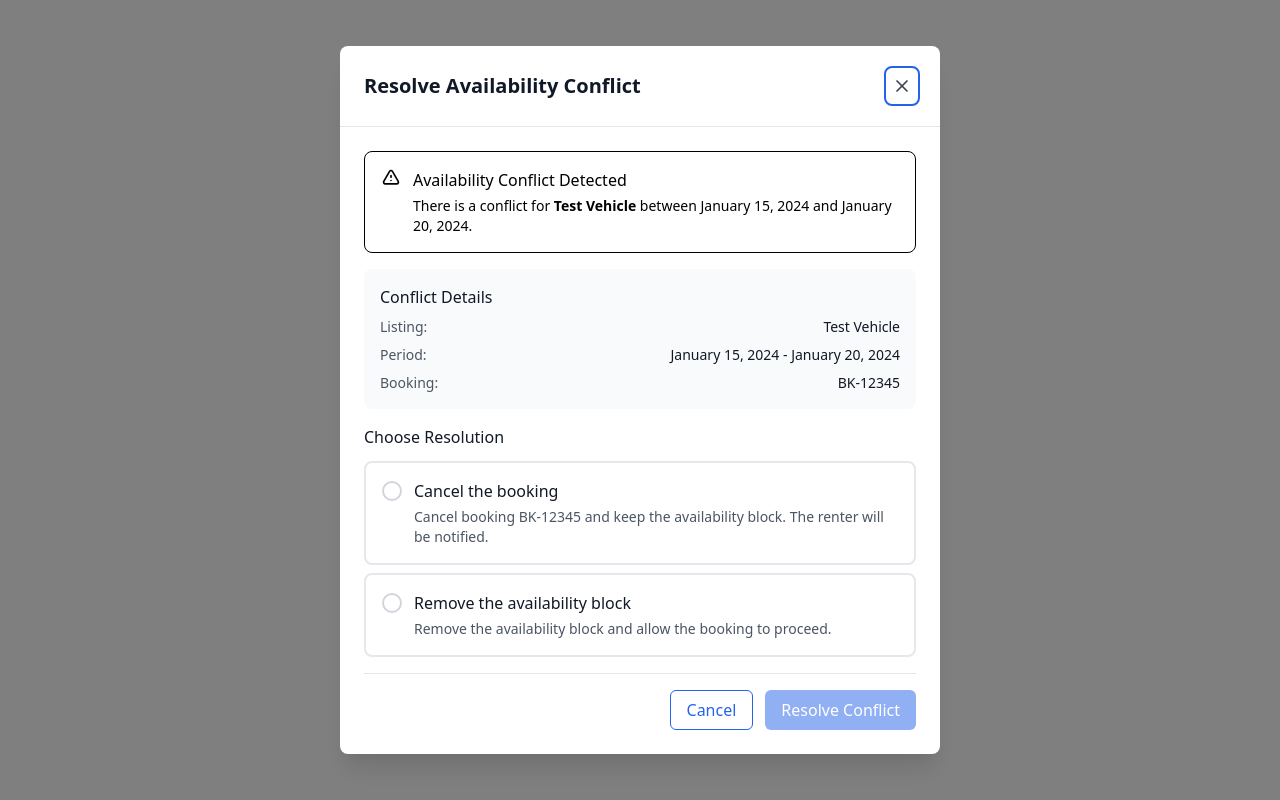
Test case: ConflictResolutionModal › displays error message when resolution fails
Note: Select and resolve
Click the button "Remove the availability block" at [522, 603], box [364, 573, 916, 657]
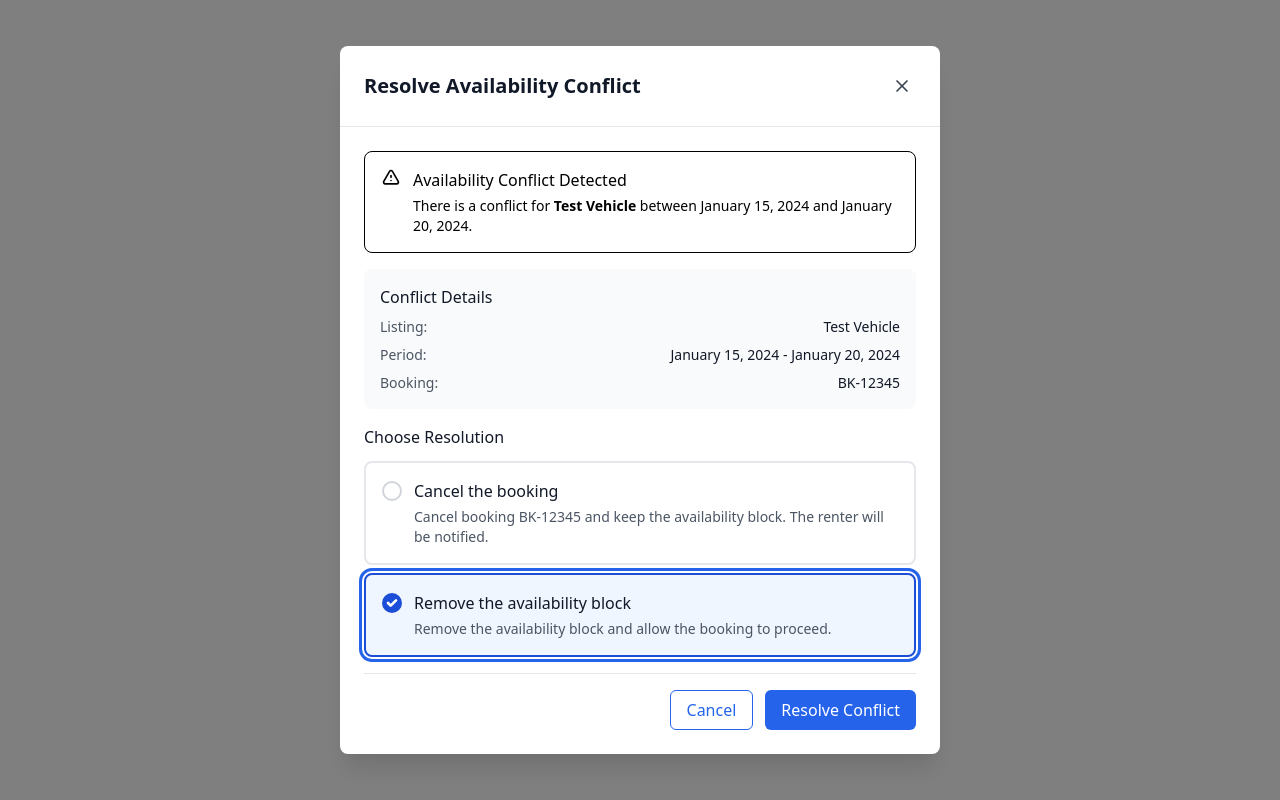
Click the button "Resolve Conflict" at [841, 710], box [765, 690, 916, 730]
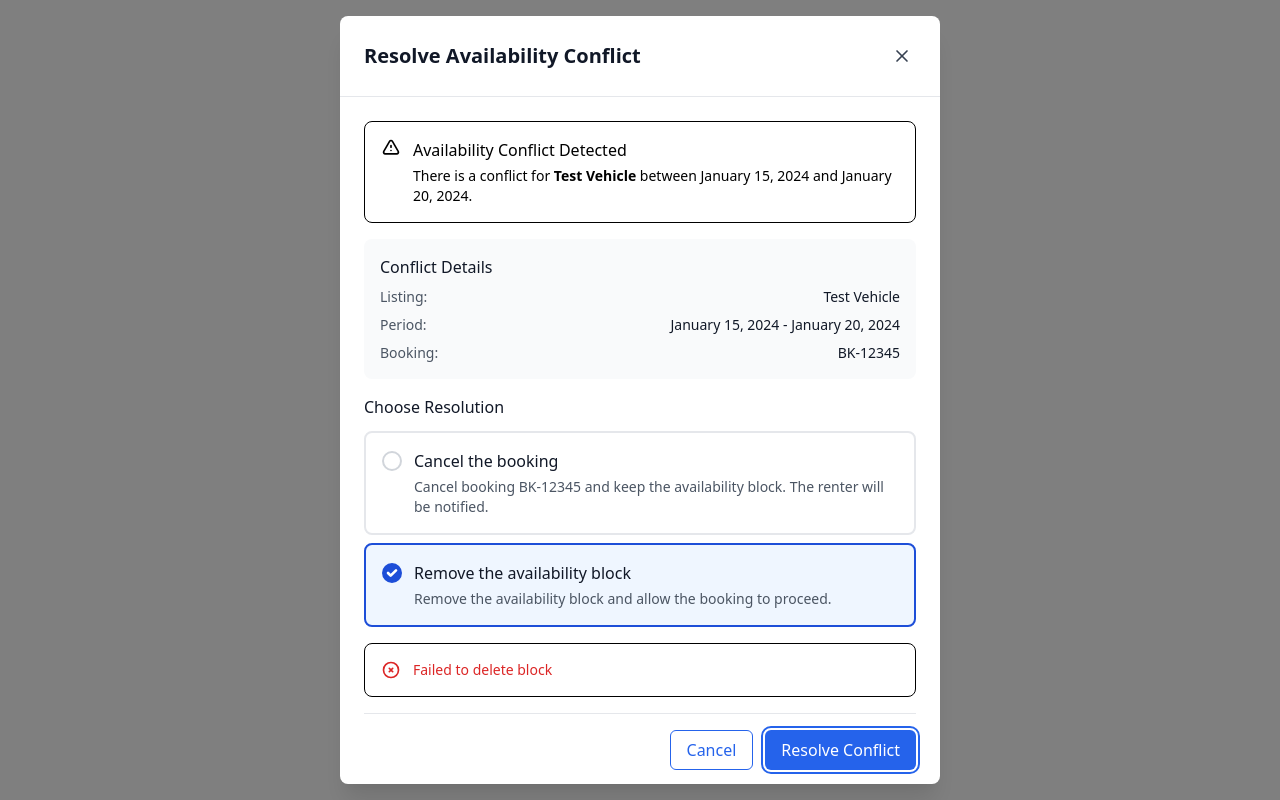
Now the text "Failed to delete block" is shown, box [413, 660, 552, 680]
